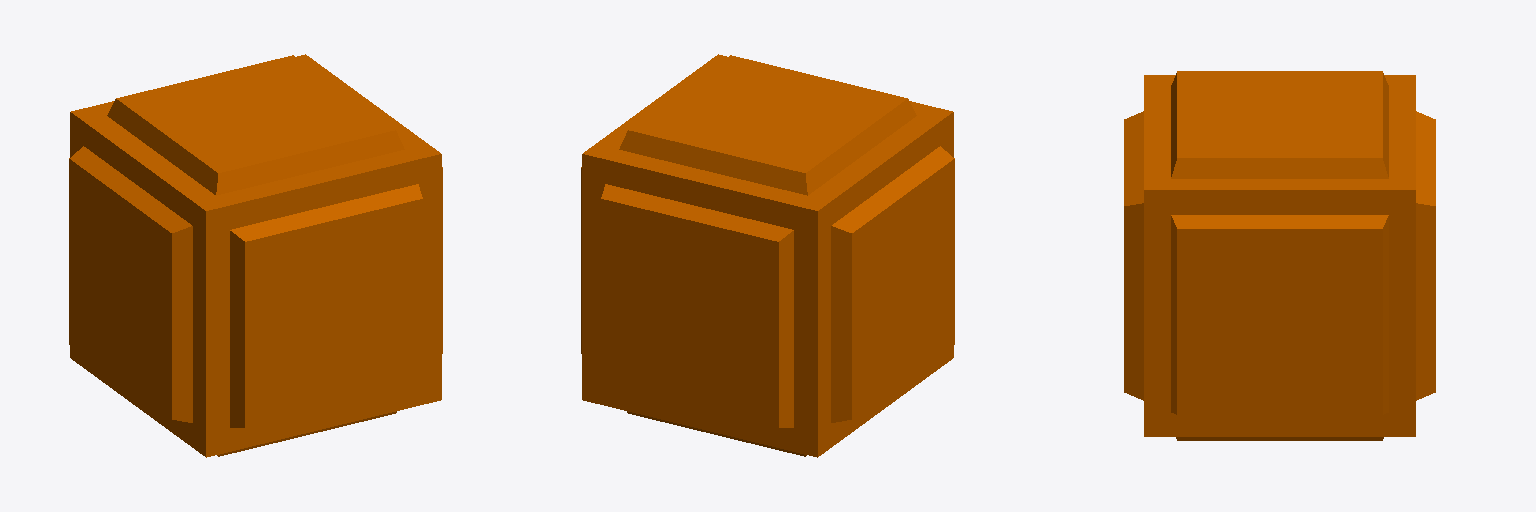
The model's file is item_box_default.obj.
3 views of the same model, side by side, from view 1: azimuth 30°, elevation 25°; view 2: azimuth 150°, elevation 25°; view 3: azimuth 270°, elevation 25° (orthographic).
Parts seen in each view (by area): view 1: Item_Box_(Basic)_[Moved_Origin]_Cube.002; view 2: Item_Box_(Basic)_[Moved_Origin]_Cube.002; view 3: Item_Box_(Basic)_[Moved_Origin]_Cube.002.
Part boxes in pixels (x1,y1,x2,y2): Item_Box_(Basic)_[Moved_Origin]_Cube.002: (69,54,442,457); Item_Box_(Basic)_[Moved_Origin]_Cube.002: (581,54,954,457); Item_Box_(Basic)_[Moved_Origin]_Cube.002: (1124,71,1435,440).
Size of the model in its own units: 2.3 by 2.3 by 2.3.